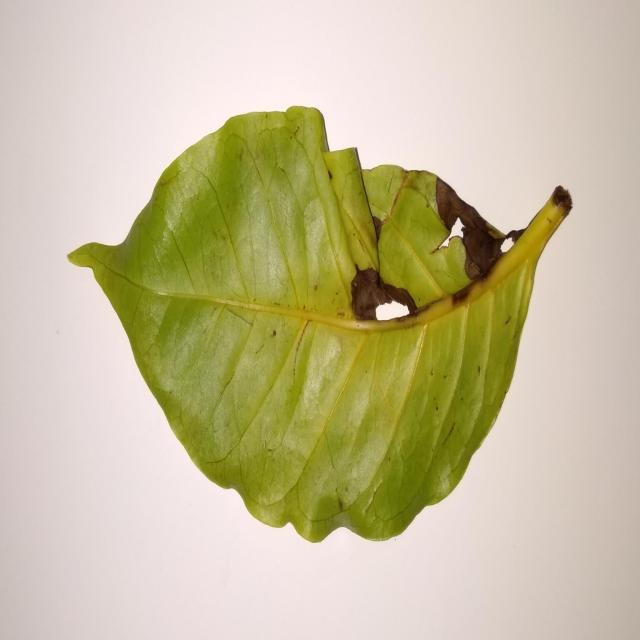Enfermedad-Antracnosis: (67, 106, 573, 545)
